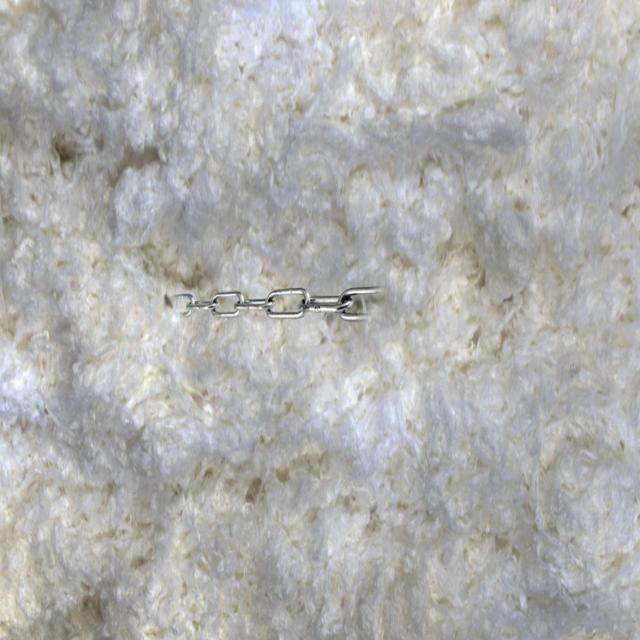dust: (156, 219, 401, 432)
